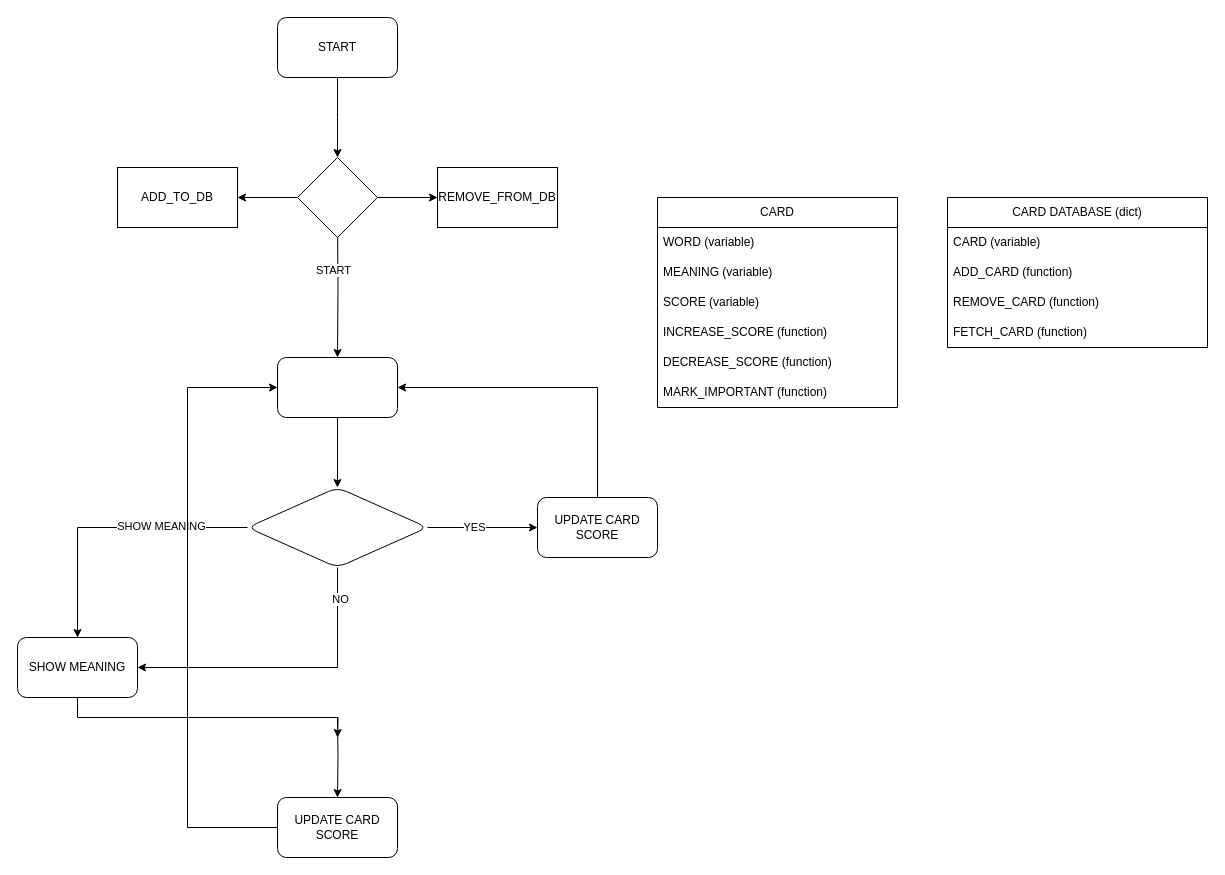
Image size: 1225x875. Some labels were removed from this diagram. Each missing label, with the centre of its shape:
MENU: the point at 337,197
SHOW NEXT CARD: the point at 337,387
USER UNDERSTOOD: the point at 337,527
